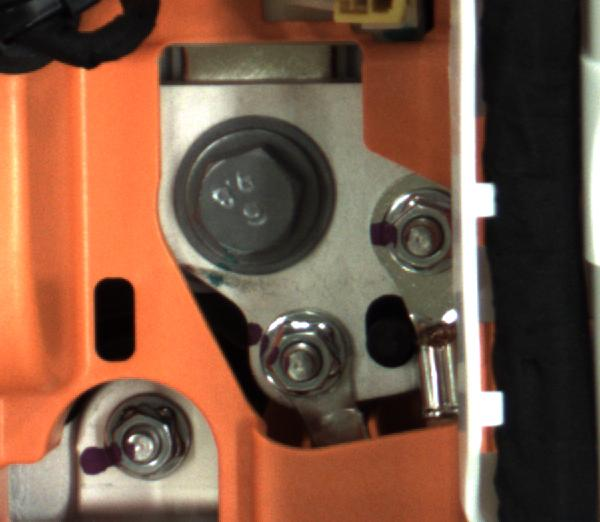nut_b: (166, 112, 343, 273)
screw_s: (245, 316, 346, 403), (95, 404, 202, 483), (376, 194, 463, 273)
